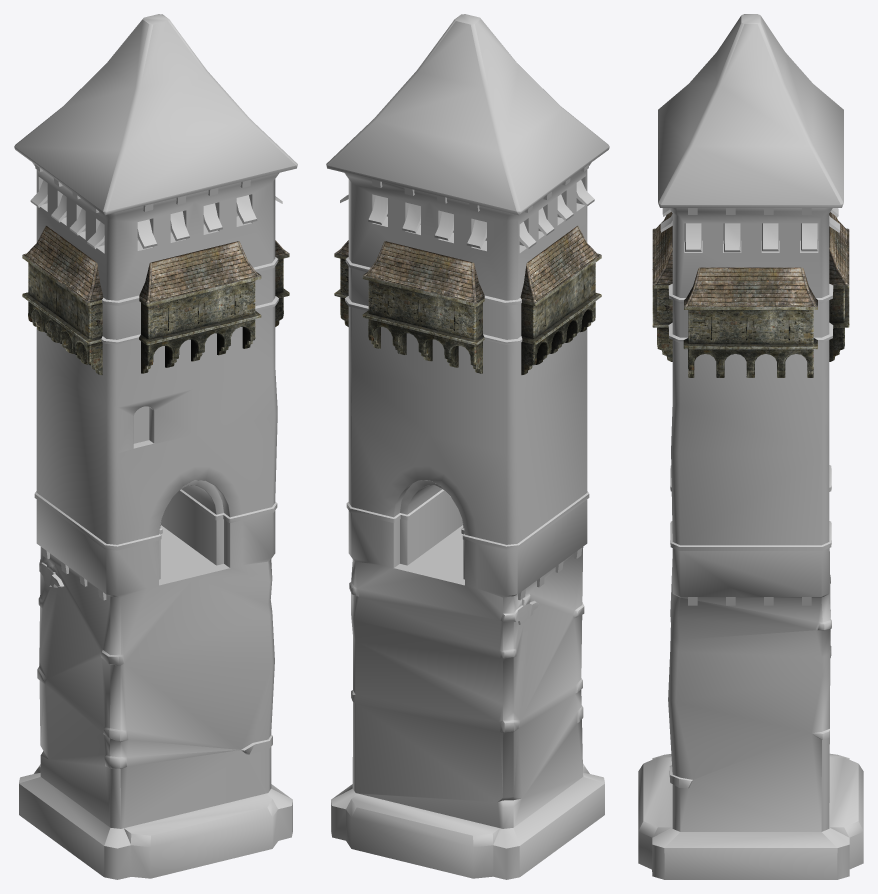
Rendered from bridge_03_tower_01.fbx.
The picture shows the model from 3 angles, left to right: view 1: azimuth 30°, elevation 25°; view 2: azimuth 150°, elevation 25°; view 3: azimuth 270°, elevation 25°; orthographic projection.
Visible parts, largest first — view 1: Mesh Object; view 2: Mesh Object; view 3: Mesh Object.
Part boxes in pixels (bbox=[...]): Mesh Object: bbox=[14, 14, 297, 879]; Mesh Object: bbox=[326, 14, 609, 879]; Mesh Object: bbox=[638, 14, 863, 879].
Bounding box in the file's own units: 13.79 × 52.36 × 13.13.
